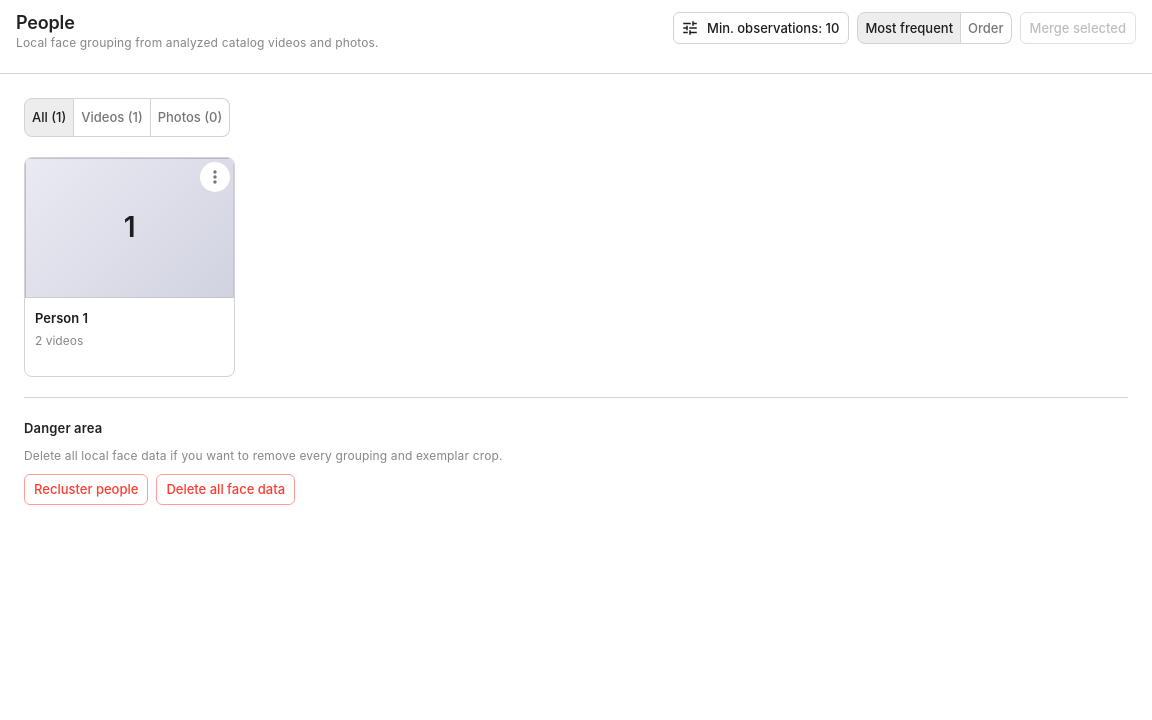
Test case: PeopleView › keeps the folding threshold in a popover the header button opens and Escape closes
Expected: the element with test id "people-grid" is shown, x1=24 y1=157 x2=235 y2=377
Click the button with test id "people-threshold-button" at (761, 28), box x1=673 y1=12 x2=849 y2=44
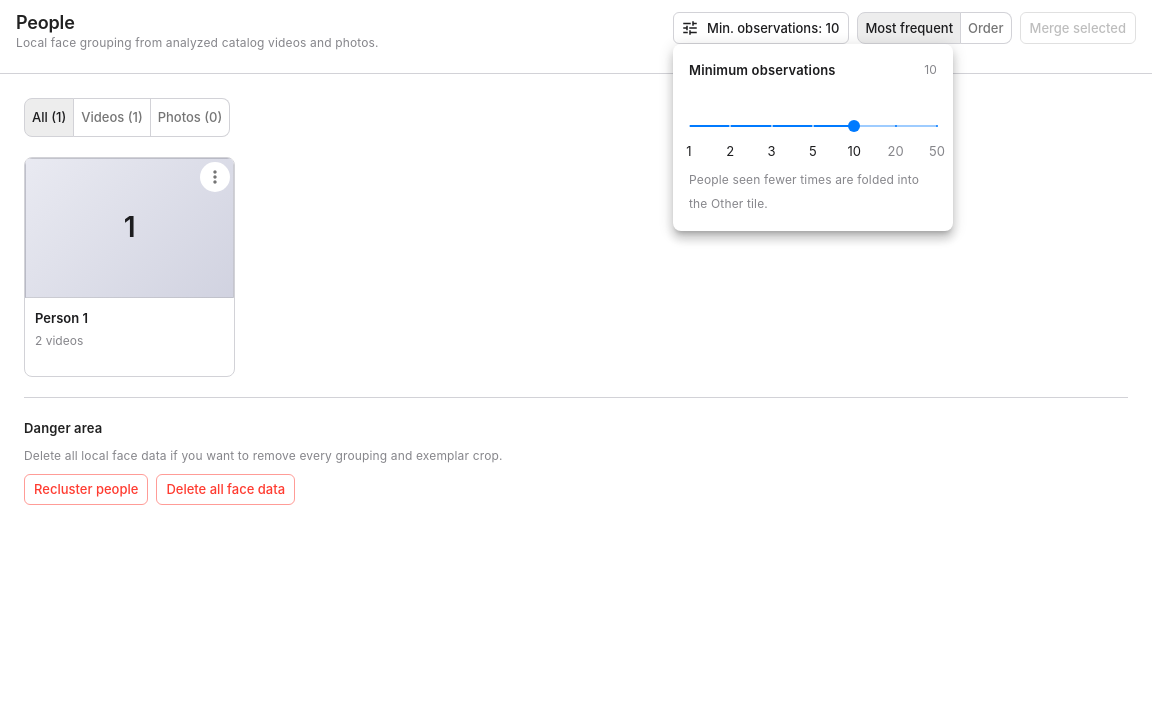
Expected: the element with test id "people-threshold-slider-field" shows "Minimum observations", x1=689 y1=62 x2=836 y2=78
Press Escape
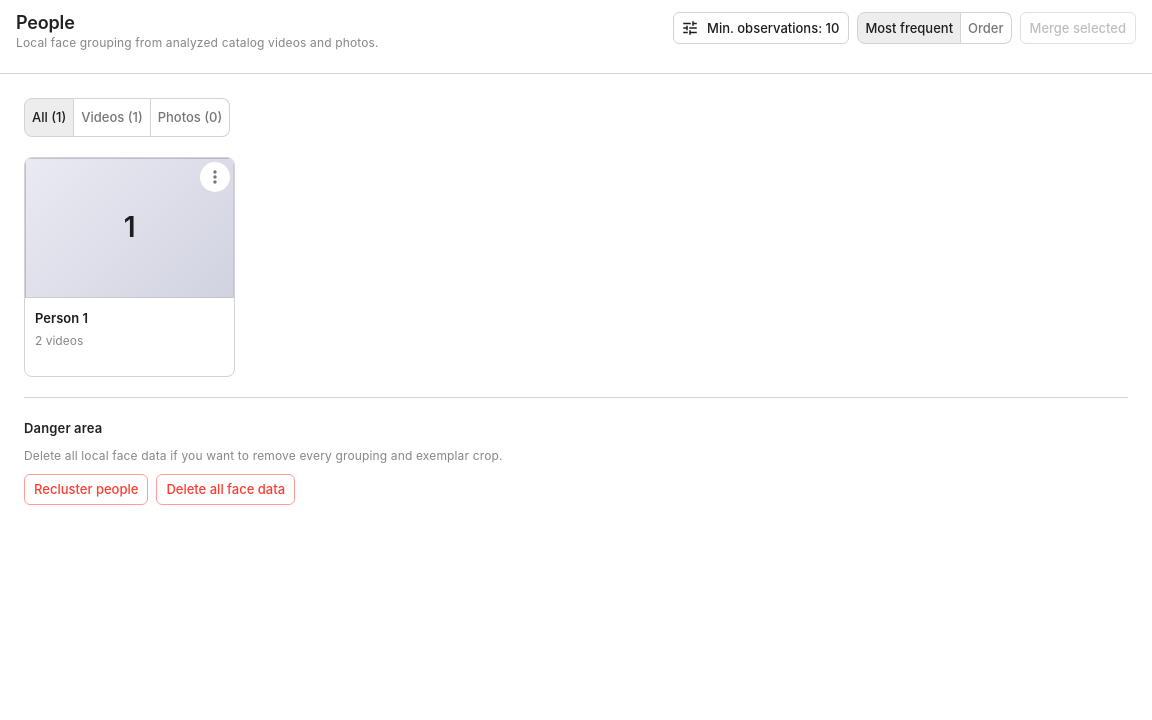
Expected: the element with test id "people-threshold-slider-field" is gone
